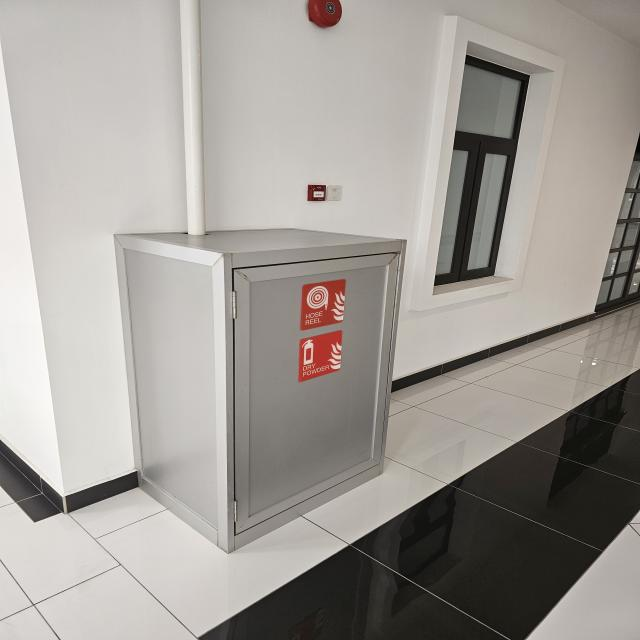footpath: (0, 544, 639, 638), (437, 354, 640, 542)
obstacle: (112, 227, 406, 553)
